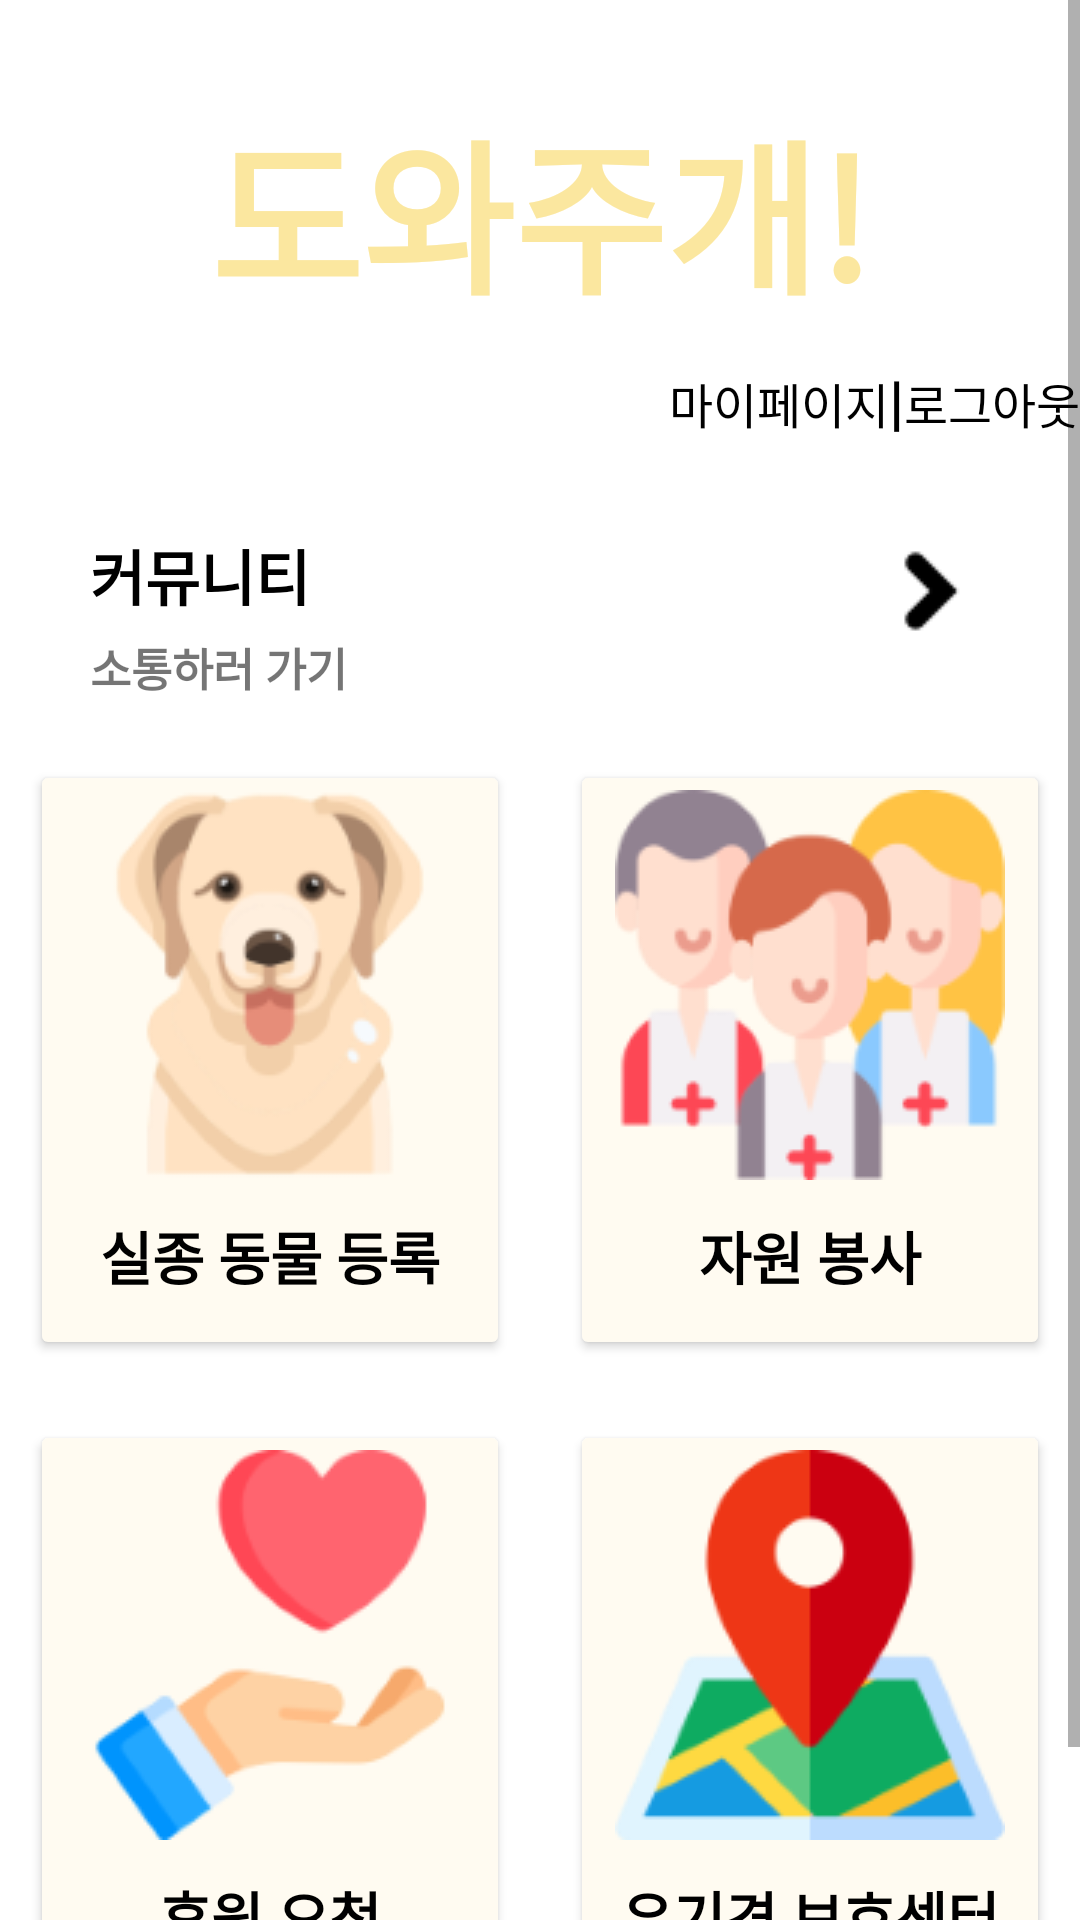

Point at icon controls on the screen. Image size 1080px×1920px, points as point (x, y).
righticon: point (931, 591)
